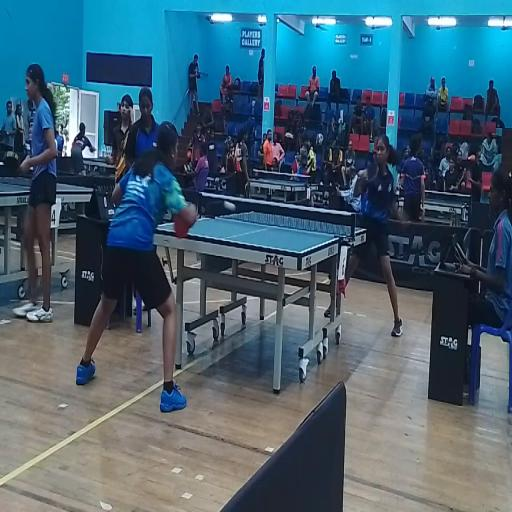ball: (226, 200, 236, 213)
